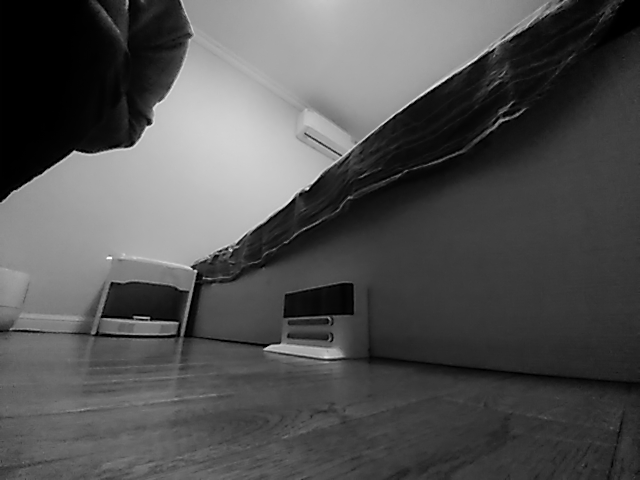Ruby: (263, 280, 369, 364)
